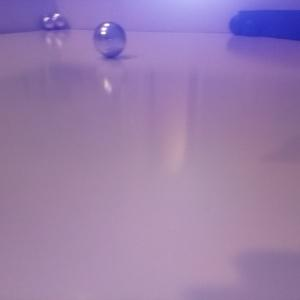alive_ball: (93, 21, 126, 58), (52, 12, 66, 29), (42, 16, 54, 29)
dead_ball: (228, 14, 246, 35), (242, 17, 260, 36)
